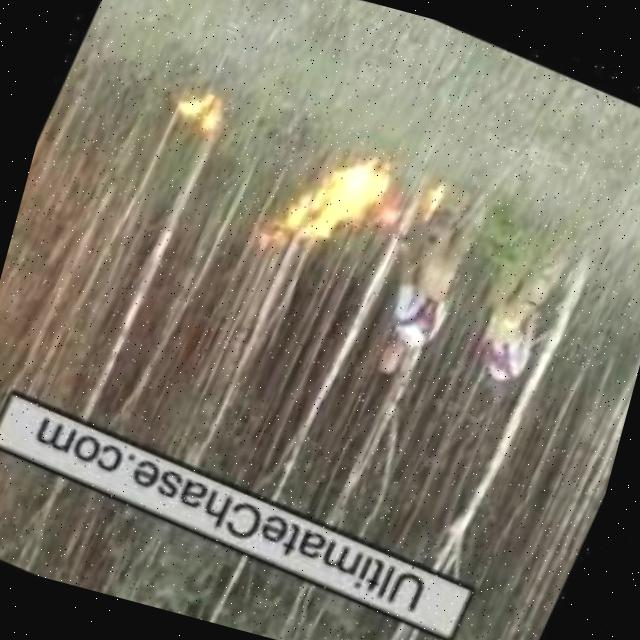fire: (267, 119, 398, 280), (158, 71, 242, 145), (412, 177, 451, 225), (372, 194, 409, 234)
